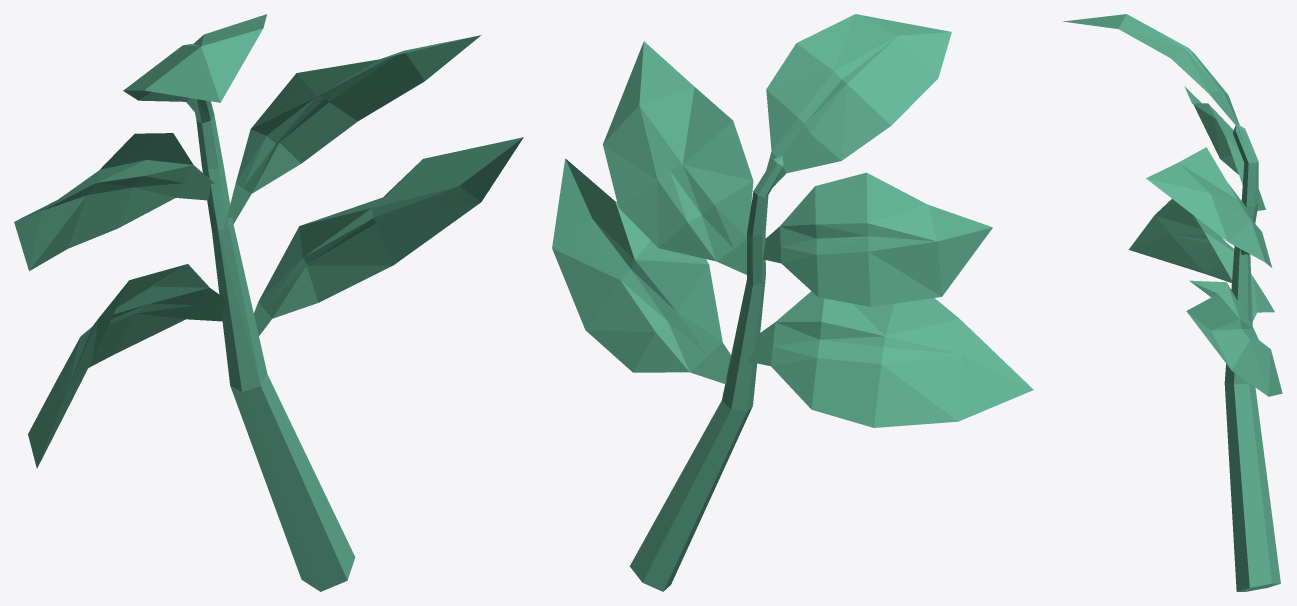
Rendered from herbXP.fbx.
The picture shows the model from 3 angles, left to right: view 1: azimuth 30°, elevation 25°; view 2: azimuth 150°, elevation 25°; view 3: azimuth 270°, elevation 25°; orthographic projection. The views are drawn at different scales.
Visible parts, largest first — view 1: herbXP; view 2: herbXP; view 3: herbXP.
Boxes of the visible parts, bbox=[...] form: herbXP: bbox=[14, 14, 523, 591]; herbXP: bbox=[552, 14, 1033, 591]; herbXP: bbox=[1063, 14, 1282, 591].
Size of the model in its own units: 1.85 by 2.21 by 0.867.
1 material, 1 textured.
